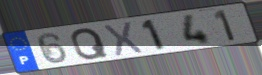1: (141, 18, 168, 52), (213, 8, 239, 42)
4: (180, 12, 214, 46)
6: (36, 32, 70, 65)
Q: (70, 26, 111, 61)
X: (102, 20, 145, 58)
